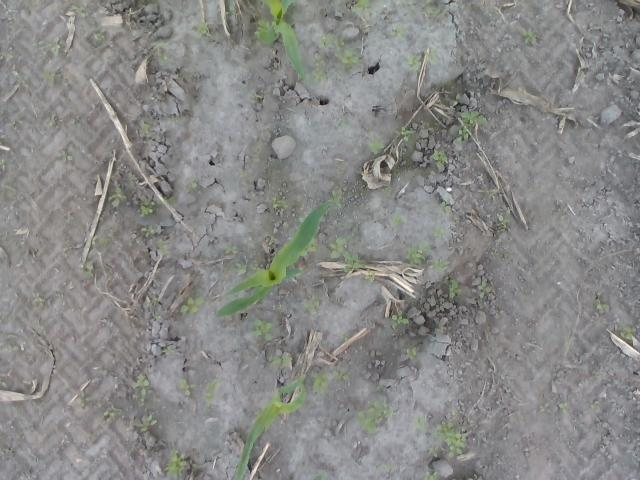Maize: (216, 200, 334, 320), (234, 372, 308, 478), (257, 0, 306, 81)
Weeds: (428, 421, 467, 458), (354, 400, 394, 434), (328, 237, 366, 272), (164, 448, 197, 478), (457, 112, 485, 142), (334, 49, 366, 71), (405, 243, 432, 268), (316, 32, 346, 52), (31, 37, 61, 56), (86, 234, 114, 252), (252, 319, 274, 341), (312, 54, 328, 84), (298, 236, 320, 257), (202, 379, 219, 406), (443, 276, 462, 300), (108, 186, 128, 208), (135, 414, 158, 433), (180, 296, 204, 314), (312, 372, 330, 395), (253, 18, 276, 36), (132, 374, 150, 396), (268, 352, 292, 368), (432, 149, 450, 169), (178, 378, 198, 396), (368, 136, 386, 155), (404, 53, 422, 72), (394, 126, 416, 141), (270, 196, 288, 214), (430, 258, 450, 274), (332, 366, 352, 382), (304, 295, 320, 315), (351, 0, 372, 15), (140, 200, 158, 217), (392, 310, 409, 328), (156, 238, 172, 255), (196, 22, 212, 39), (424, 0, 442, 15), (328, 190, 343, 208), (484, 187, 500, 203), (413, 416, 428, 433), (478, 281, 492, 299), (424, 48, 439, 64), (390, 213, 406, 228), (13, 71, 30, 85), (140, 224, 157, 238), (42, 70, 55, 88), (522, 29, 537, 44), (438, 198, 452, 214), (389, 25, 406, 38), (497, 215, 510, 232), (83, 260, 95, 278), (56, 150, 74, 162), (620, 327, 636, 340), (70, 4, 86, 17), (372, 463, 394, 472), (126, 171, 138, 187), (232, 262, 248, 274), (76, 396, 93, 407), (157, 196, 176, 205), (157, 52, 170, 65), (186, 180, 198, 194), (364, 269, 376, 282), (93, 28, 106, 40), (406, 346, 417, 360), (538, 402, 552, 413), (9, 118, 24, 128), (140, 122, 152, 134), (48, 112, 57, 128), (224, 244, 237, 255), (340, 328, 350, 342), (432, 226, 446, 236), (423, 471, 438, 480), (558, 402, 569, 414), (380, 186, 393, 196), (596, 302, 610, 311), (33, 292, 44, 303), (489, 248, 501, 258), (70, 118, 82, 128), (146, 298, 158, 308), (2, 51, 14, 61), (248, 262, 261, 271), (248, 92, 262, 100), (102, 411, 116, 419), (152, 41, 168, 48), (589, 399, 600, 409), (266, 235, 276, 246), (452, 94, 460, 107), (435, 326, 447, 334), (162, 347, 174, 355), (2, 346, 18, 352), (37, 324, 46, 334), (0, 376, 7, 388), (225, 6, 234, 15), (172, 116, 180, 126), (338, 118, 346, 128), (435, 300, 444, 308), (154, 312, 162, 321), (312, 474, 324, 480), (376, 384, 386, 391), (451, 477, 474, 480), (518, 86, 528, 92), (506, 206, 512, 214), (0, 156, 5, 165)
